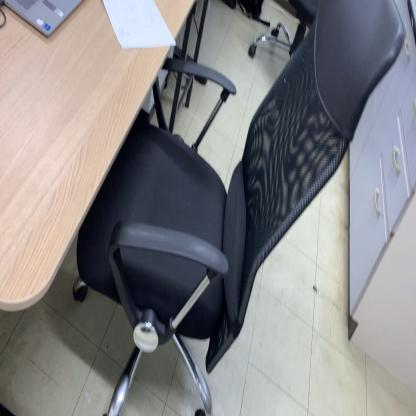chair: (70, 0, 405, 416)
